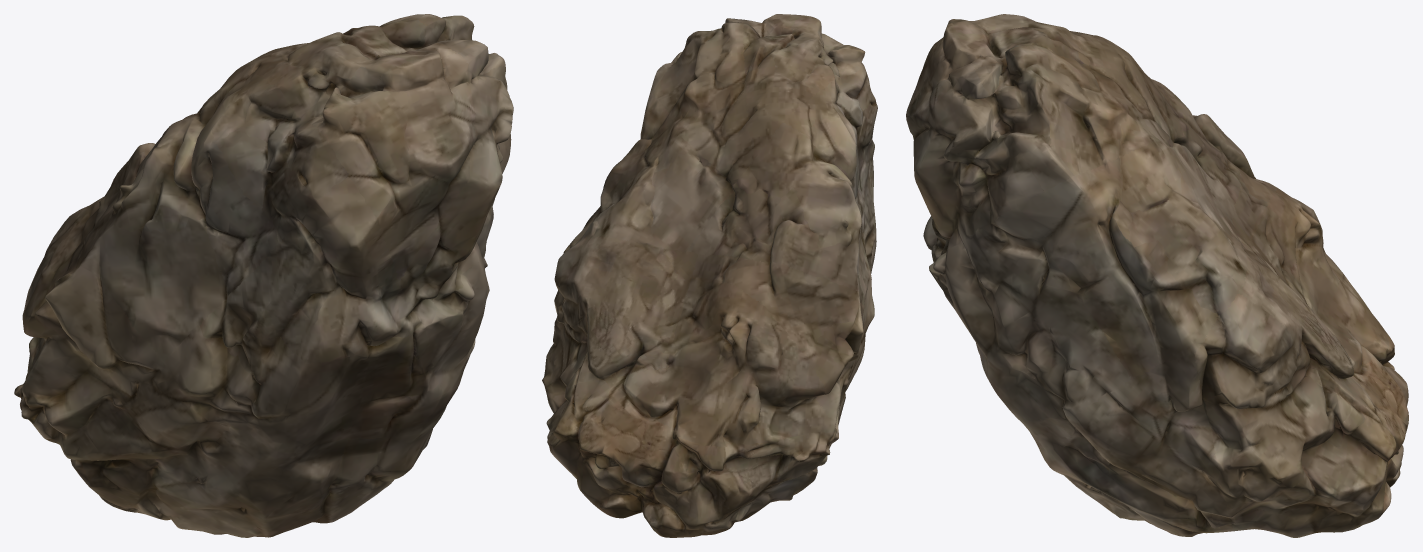
The model's file is foothill-boulder-demo.glb.
3 renders of one model, left to right at view 1: azimuth 30°, elevation 25°; view 2: azimuth 150°, elevation 25°; view 3: azimuth 270°, elevation 25°, orthographic. The views are drawn at different scales.
Parts seen in each view (by area): view 1: tripo_node_1eb50000-a2bd-4ebd-923a-b5fcccc781a2; view 2: tripo_node_1eb50000-a2bd-4ebd-923a-b5fcccc781a2; view 3: tripo_node_1eb50000-a2bd-4ebd-923a-b5fcccc781a2.
Part boxes in pixels (x1,y1,x2,y2): tripo_node_1eb50000-a2bd-4ebd-923a-b5fcccc781a2: (14, 14, 513, 537); tripo_node_1eb50000-a2bd-4ebd-923a-b5fcccc781a2: (542, 14, 877, 537); tripo_node_1eb50000-a2bd-4ebd-923a-b5fcccc781a2: (906, 14, 1408, 537).
Bounding box in the file's own units: 0.787 × 1 × 0.9177.
1 material, 1 textured.
